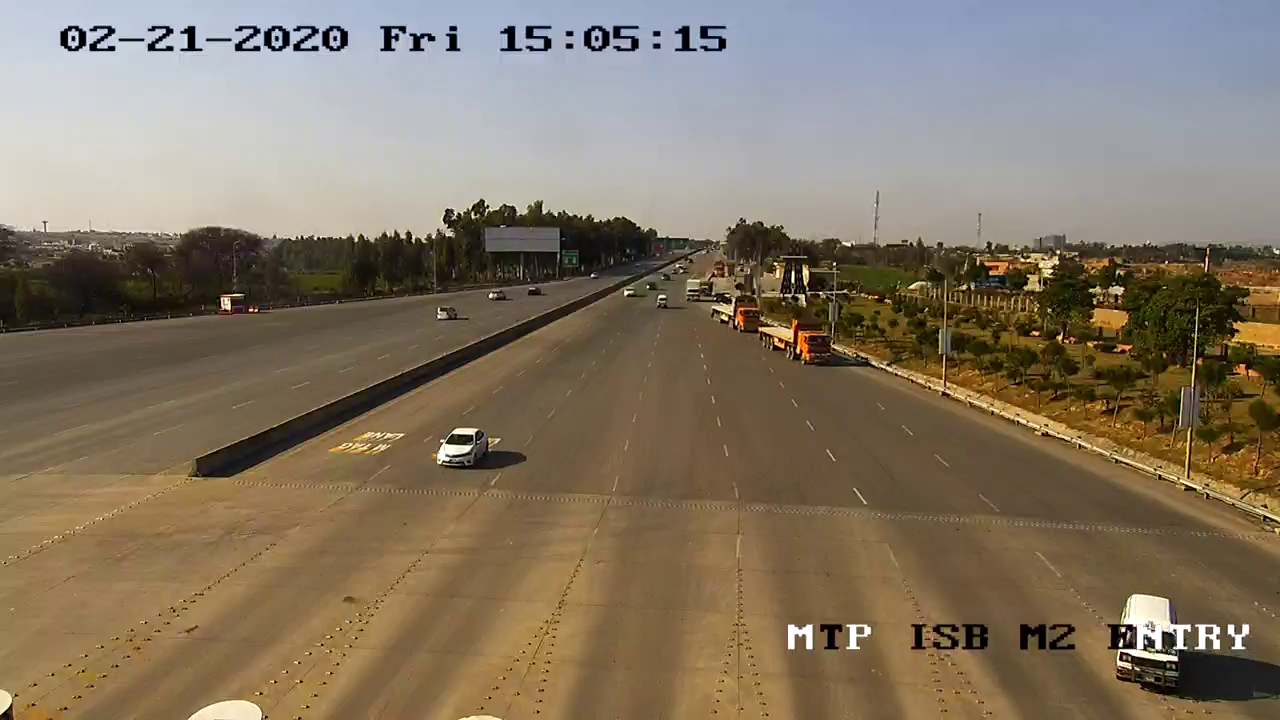f1: (429, 419, 497, 482)
f6: (754, 309, 840, 371)
